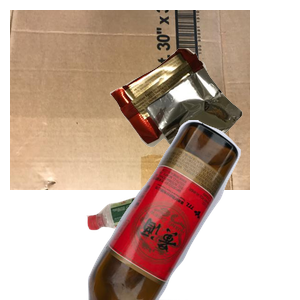cardboard: (10, 10, 250, 190)
glass: (85, 120, 300, 300)
plastic: (84, 191, 242, 300)
trash: (107, 46, 300, 198)
